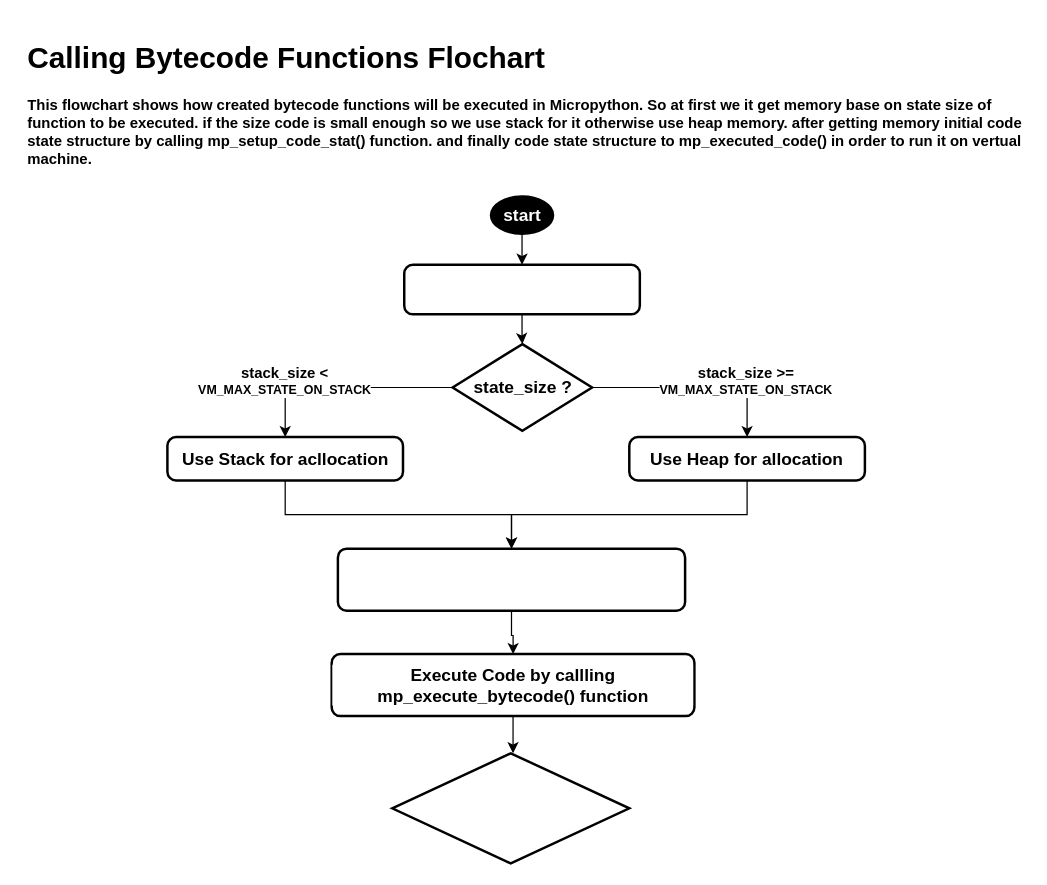
Image size: 1047x885. Some labels were removed from this diagram. The shapes that lost their labels are listed below. From the top down, each one's box as (x1, y1, x2, y2) in pixels, then its label:
(402, 263, 640, 315): Decode Code State Size
(336, 547, 686, 611): Initial Code State by calling mp_setup_code_state() function
(390, 751, 630, 864): Check Return Value
